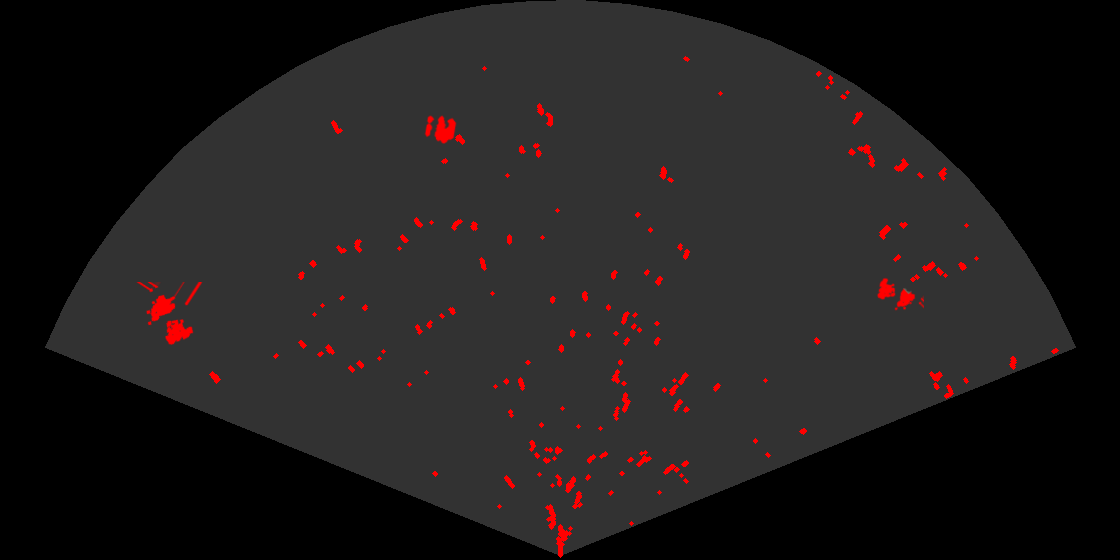ball: (423, 114, 458, 145)
cage: (135, 282, 204, 347), (875, 276, 924, 312)
